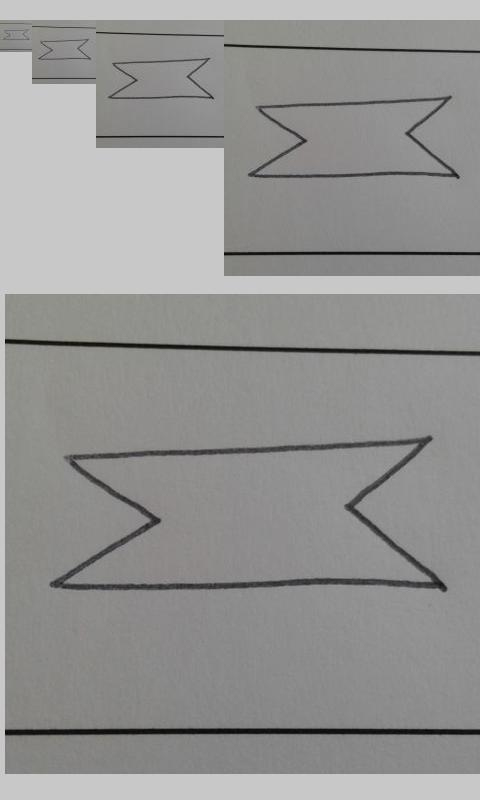edit_text: (45, 436, 442, 597), (245, 94, 457, 183), (108, 57, 214, 100), (37, 38, 91, 61), (2, 29, 29, 41)
